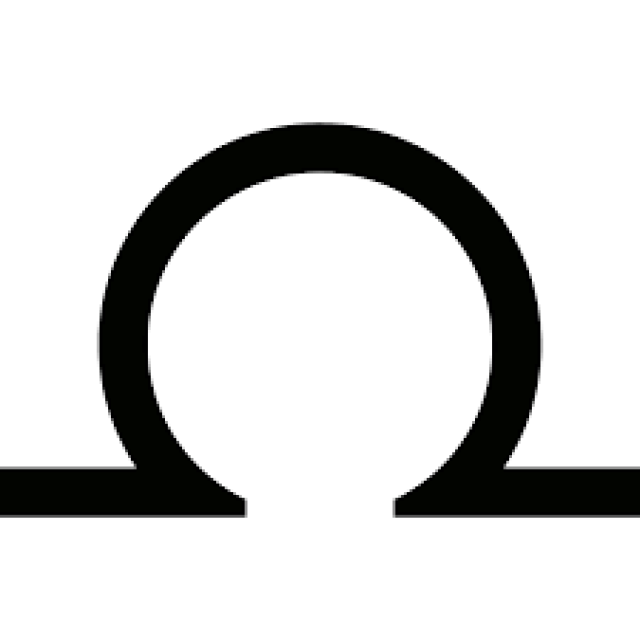ohms: (28, 63, 631, 612)
